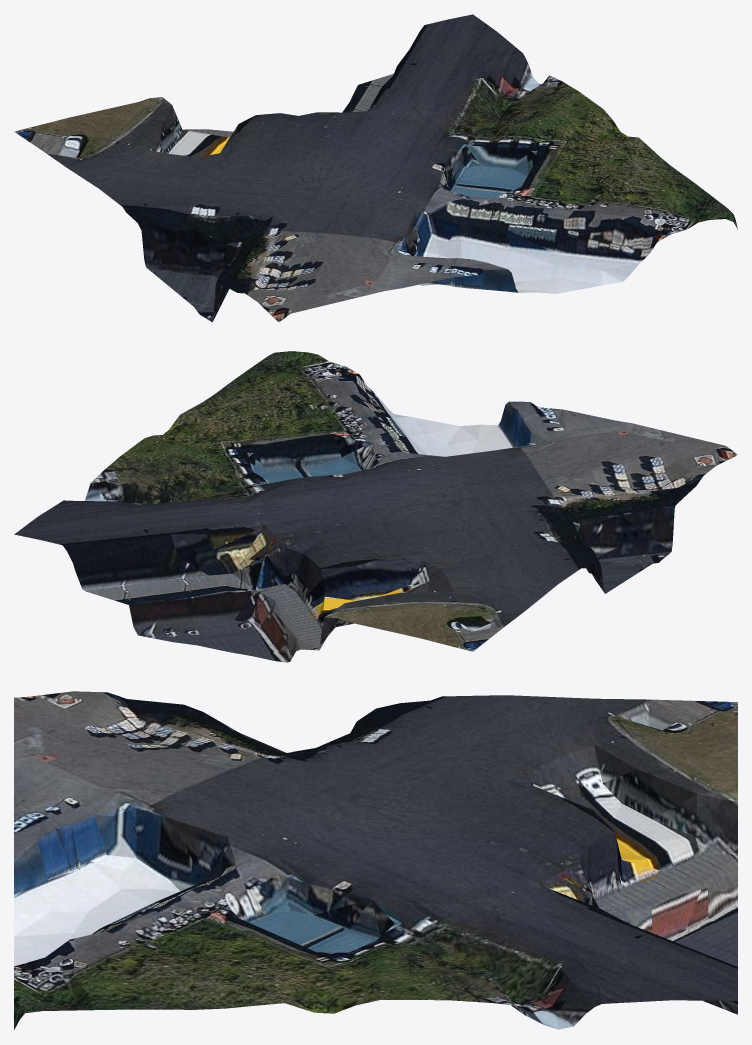
File: map_15_8182_13781.dae
The picture shows the model from 3 angles, top to bottom: view 1: azimuth 30°, elevation 25°; view 2: azimuth 150°, elevation 25°; view 3: azimuth 270°, elevation 25°; orthographic projection. The views are drawn at different scales.
Visible parts, largest first — view 1: Ter0; view 2: Ter0; view 3: Ter0.
Part boxes in pixels (box(x1,y1,x2,y2)): Ter0: box(14, 14, 737, 322); Ter0: box(14, 351, 737, 662); Ter0: box(14, 691, 737, 1029).
Bounding box in the file's own units: 63.88 × 63.88 × 9.95.
2 materials, 2 textured.
